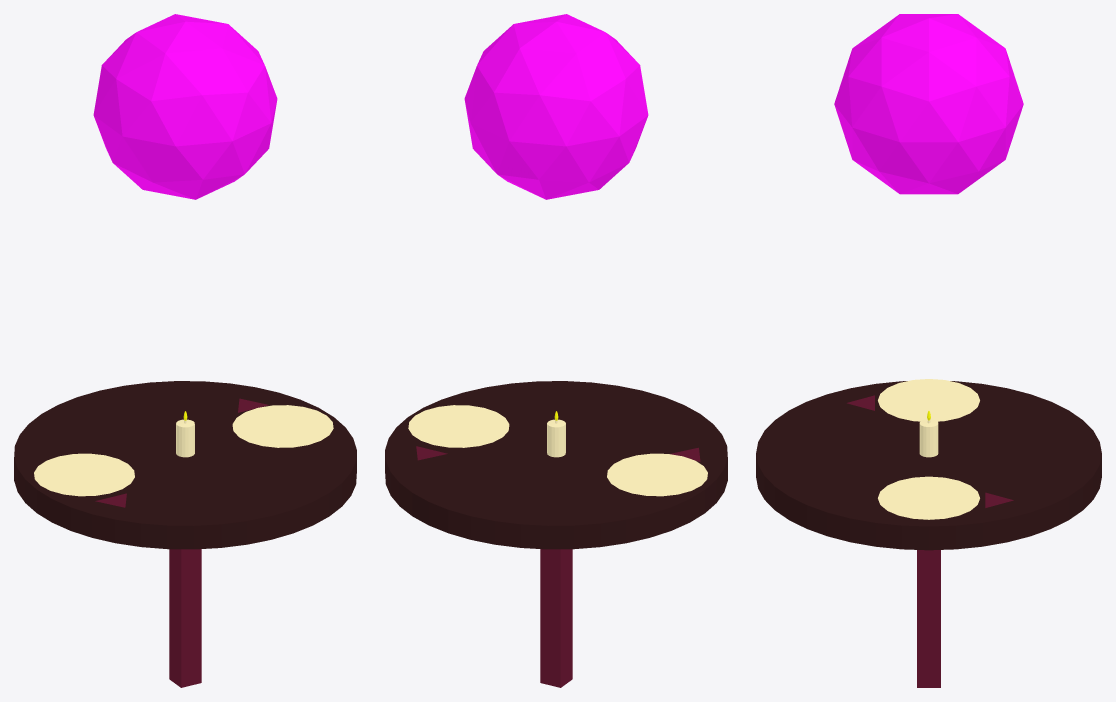
The picture shows the model from 3 angles, left to right: view 1: azimuth 30°, elevation 25°; view 2: azimuth 150°, elevation 25°; view 3: azimuth 270°, elevation 25°; orthographic projection.
Visible parts, largest first — view 1: Cube.001, Icosphere, Cube.002, Cylinder, Cylinder.001, Cylinder.002; view 2: Cube.001, Icosphere, Cube.002, Cylinder, Cylinder.001, Cylinder.002; view 3: Cube.001, Icosphere, Cylinder.001, Cylinder, Cube.002, Cylinder.002.
Part boxes in pixels (x1,y1,x2,y2): Cube.001: [14, 381, 356, 549]; Icosphere: [93, 14, 277, 199]; Cube.002: [169, 549, 201, 687]; Cylinder: [34, 453, 134, 496]; Cylinder.001: [232, 405, 333, 447]; Cylinder.002: [176, 411, 194, 457]; Cube.001: [385, 381, 727, 549]; Icosphere: [464, 14, 648, 199]; Cube.002: [540, 549, 572, 687]; Cylinder: [607, 453, 707, 496]; Cylinder.001: [408, 405, 509, 447]; Cylinder.002: [547, 411, 565, 457]; Cube.001: [756, 381, 1101, 550]; Icosphere: [834, 14, 1023, 194]; Cylinder.001: [878, 476, 979, 519]; Cylinder: [878, 379, 979, 421]; Cube.002: [917, 550, 940, 687]; Cylinder.002: [919, 411, 938, 457].
Size of what is drawn, in the model's own units: 3.65 by 7.74 by 3.65.
1 material, 1 textured.
